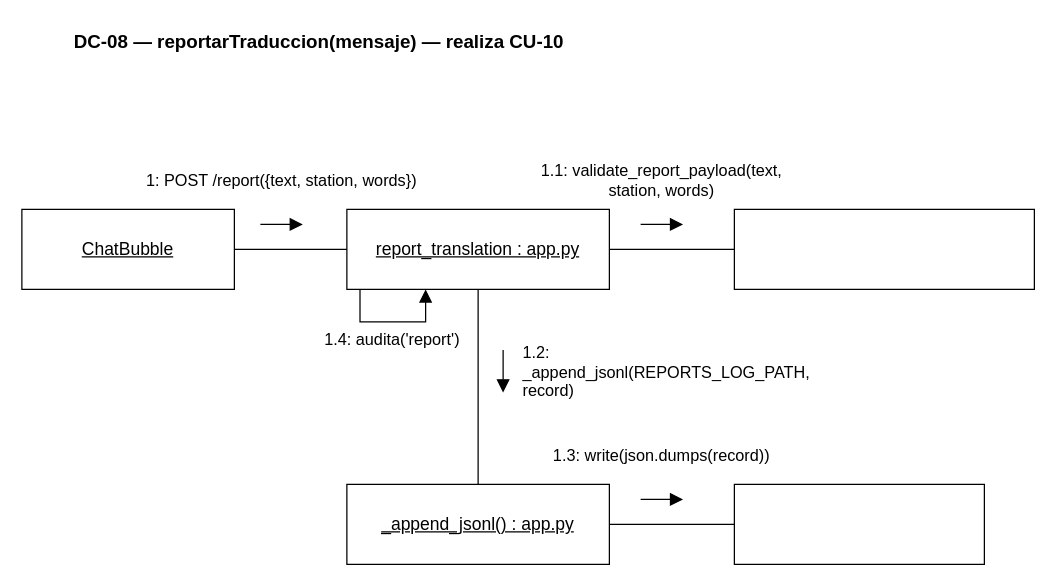
Some shapes in this 1056 by 586 pixel diagram are drawn without their labels. Each missing label, with the centre of its shape:
"logs/reports.jsonl" belongs at (858,523).
"validate_report_payload() : capture_validation.py" belongs at (883,248).
